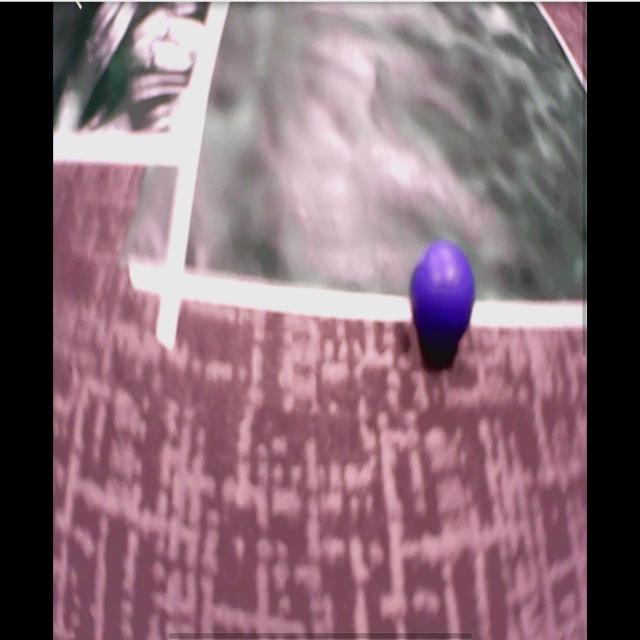ball: (411, 241, 476, 342)
